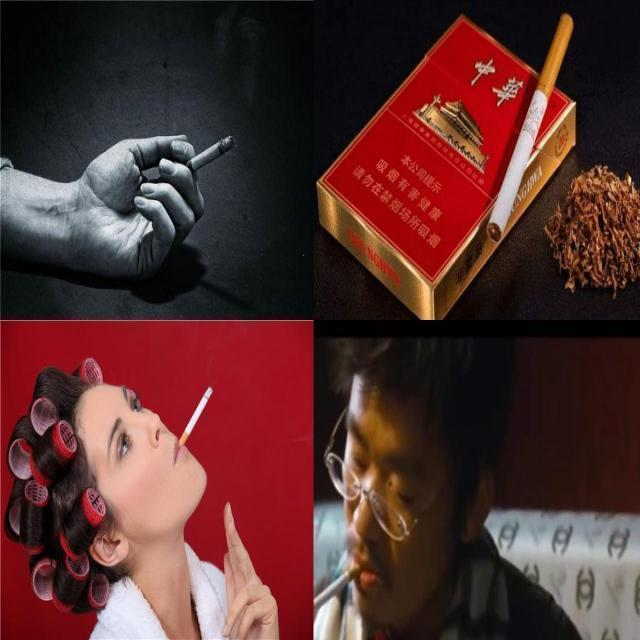rokok: (486, 13, 574, 245), (172, 134, 238, 182), (314, 562, 362, 614), (178, 386, 214, 450)
